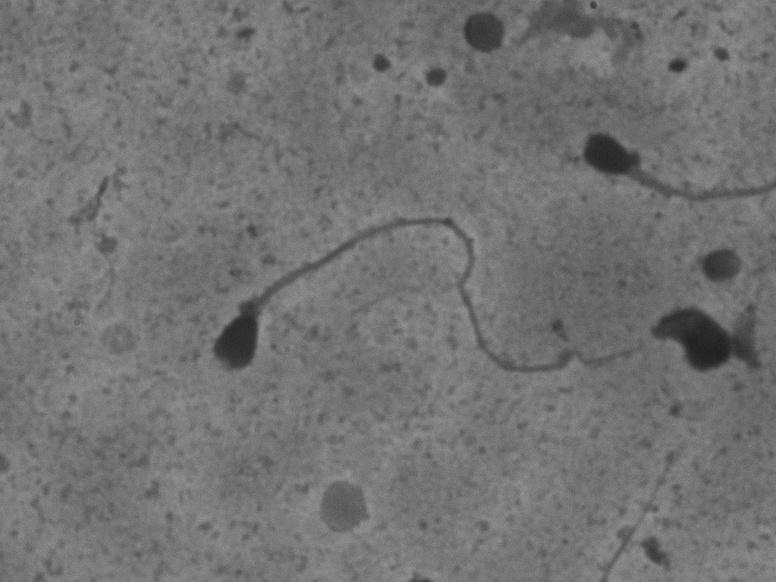Abnormal: (190, 193, 608, 430), (557, 109, 769, 219)
